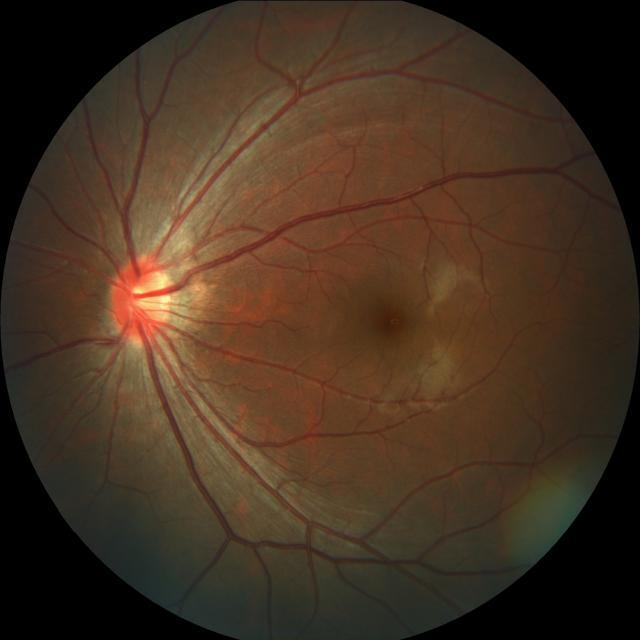OC: (130, 272, 170, 308)
OD: (110, 255, 177, 342)
